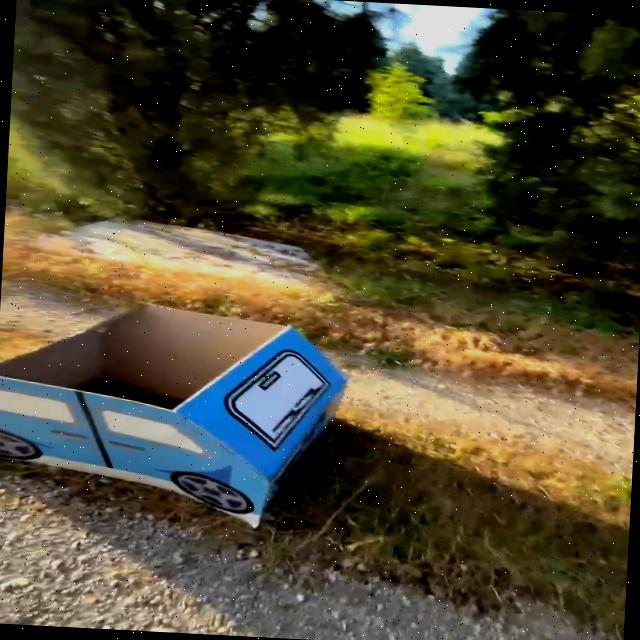blue_car: (0, 242, 430, 565)
